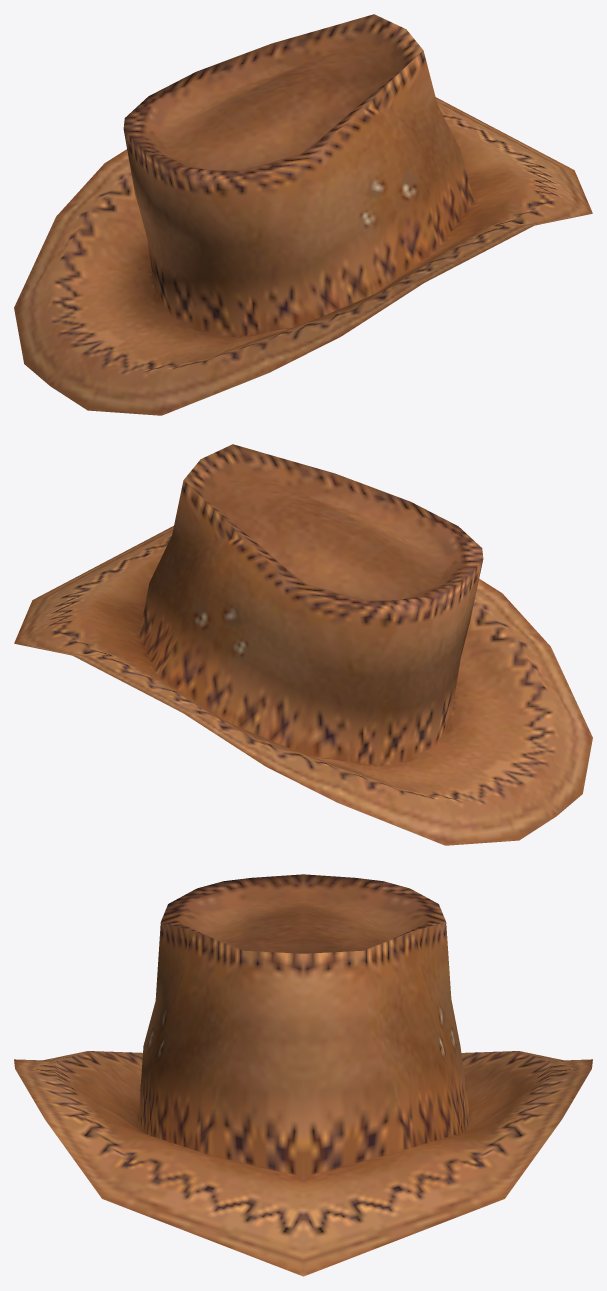
The model's file is hat_0450006.FBX.
The picture shows the model from 3 angles, top to bottom: view 1: azimuth 30°, elevation 25°; view 2: azimuth 150°, elevation 25°; view 3: azimuth 270°, elevation 25°; orthographic projection. The views are drawn at different scales.
Visible parts, largest first — view 1: hat_0450006; view 2: hat_0450006; view 3: hat_0450006.
Boxes of the visible parts, <box> form: hat_0450006: <box>14,14,592,415</box>; hat_0450006: <box>14,444,592,845</box>; hat_0450006: <box>14,874,592,1276</box>.
Size of the model in its own units: 45.79 by 22.74 by 35.81.
